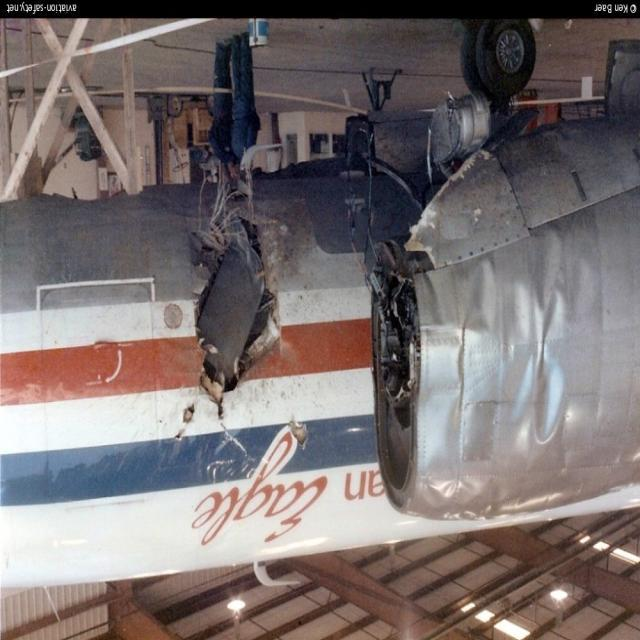dent: (422, 226, 598, 464)
